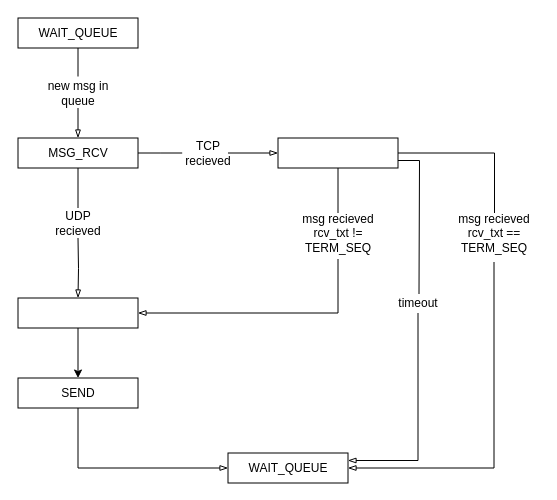
Image size: 557x500. Some labels were removed from this diagram. Each missing label, with the box of its shape:
WAIT_CLIENT: (277, 137, 398, 168)
WORK: (17, 297, 138, 328)
